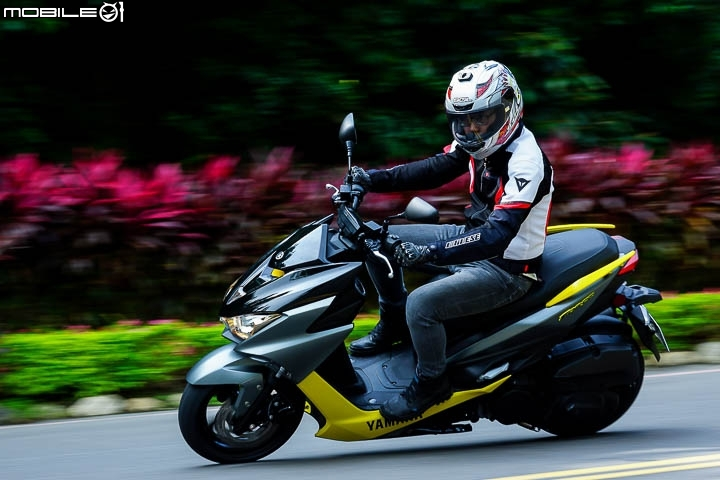helmet: (435, 63, 536, 158)
